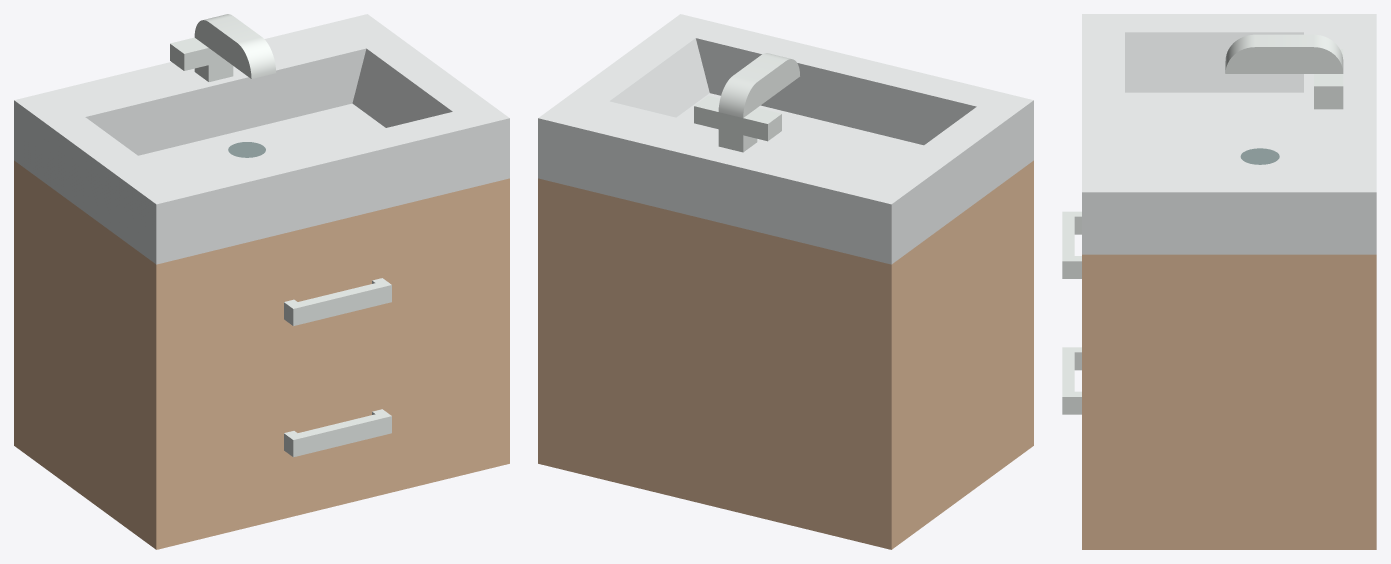
Rendered from bathroomCabinetDrawer.glb.
3 views of the same model, side by side, from view 1: azimuth 30°, elevation 25°; view 2: azimuth 150°, elevation 25°; view 3: azimuth 270°, elevation 25° (orthographic). The views are drawn at different scales.
Parts seen in each view (by area): view 1: bathroomCabinetDrawer(Clone), drawerBottom, drawerTop; view 2: bathroomCabinetDrawer(Clone); view 3: bathroomCabinetDrawer(Clone), drawerBottom, drawerTop.
Boxes of the visible parts, x1,y1,x2,y2 form: bathroomCabinetDrawer(Clone): [14, 14, 509, 549]; drawerBottom: [178, 338, 487, 521]; drawerTop: [178, 207, 487, 389]; bathroomCabinetDrawer(Clone): [538, 14, 1033, 549]; bathroomCabinetDrawer(Clone): [1082, 14, 1376, 549]; drawerBottom: [1062, 347, 1081, 414]; drawerTop: [1062, 211, 1081, 278].
Bounding box in the file's own units: 0.8729 × 0.9577 × 0.6496.
Materials: 4 (4 with a texture image).
